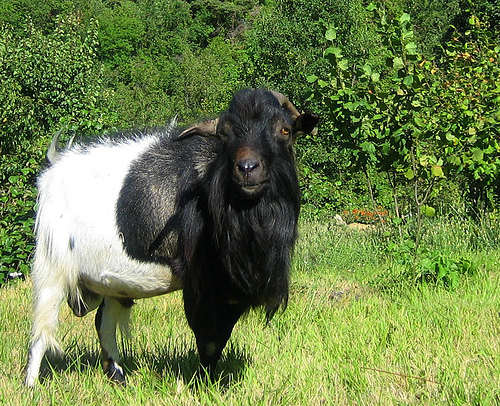goat: (22, 85, 323, 392)
